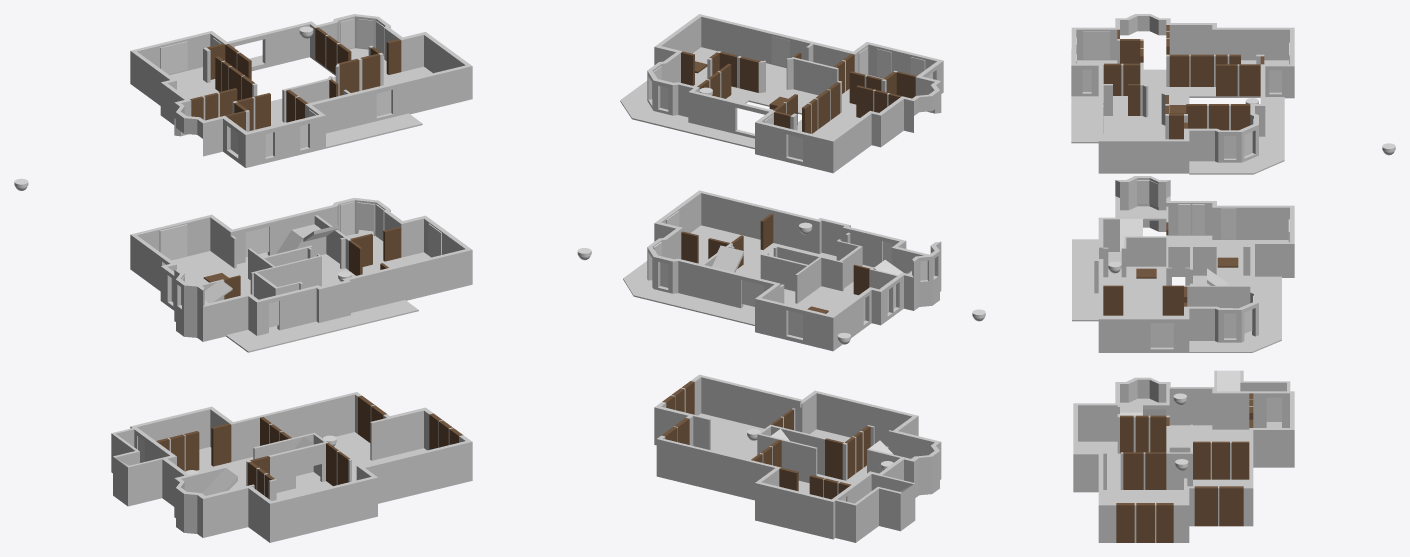
File: house_map.fbx
3 renders of one model, left to right at view 1: azimuth 30°, elevation 25°; view 2: azimuth 150°, elevation 25°; view 3: azimuth 270°, elevation 25°, orthographic. The views are drawn at different scales.
Parts seen in each view (by area): view 1: B1, 1F, 2F, Cube.011, Cube.014, Stair; view 2: B1, 2F, 1F, Cube.014, Cube.011, Stair; view 3: B1, 2F, 1F, Cube.011, Cube.014.
Boxes of the visible parts, x1,y1,x2,y2 form: B1: (111, 392, 472, 542); 1F: (130, 197, 472, 352); 2F: (130, 14, 472, 167); Cube.011: (159, 201, 441, 327); Cube.014: (160, 18, 391, 156); Stair: (276, 224, 338, 256); B1: (654, 374, 941, 542); 2F: (620, 14, 943, 173); 1F: (623, 190, 941, 351); Cube.014: (652, 36, 932, 159); Cube.011: (653, 211, 934, 337); Stair: (712, 245, 743, 272); B1: (1073, 370, 1294, 542); 2F: (1071, 14, 1294, 174); 1F: (1072, 176, 1294, 352); Cube.011: (1137, 180, 1289, 347); Cube.014: (1076, 31, 1289, 158).
Bounding box in the file's own units: 914 × 997 × 953.
